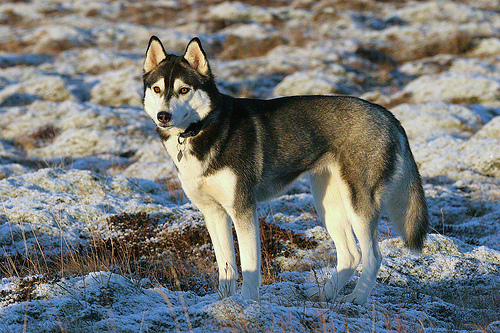dog: (138, 34, 430, 309)
